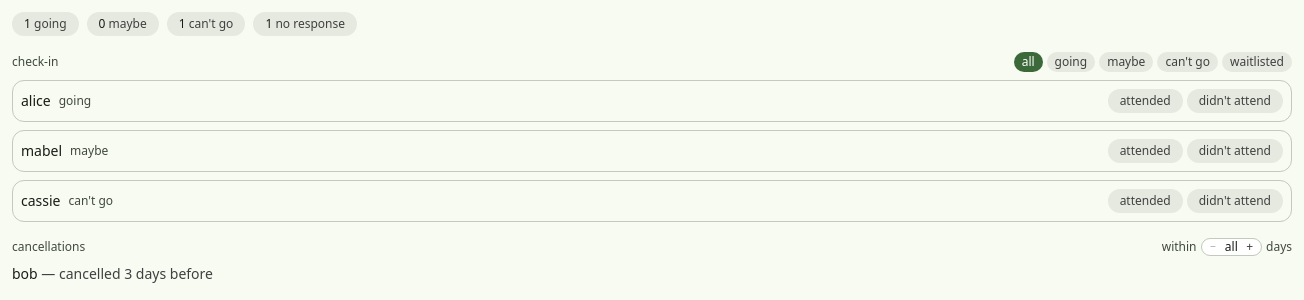
Scenario: EventAttendancePanel › restores the full list when the "all" chip is picked again
Click the button "maybe".
click(1126, 62)  # box left=1099, top=52, right=1153, bottom=72
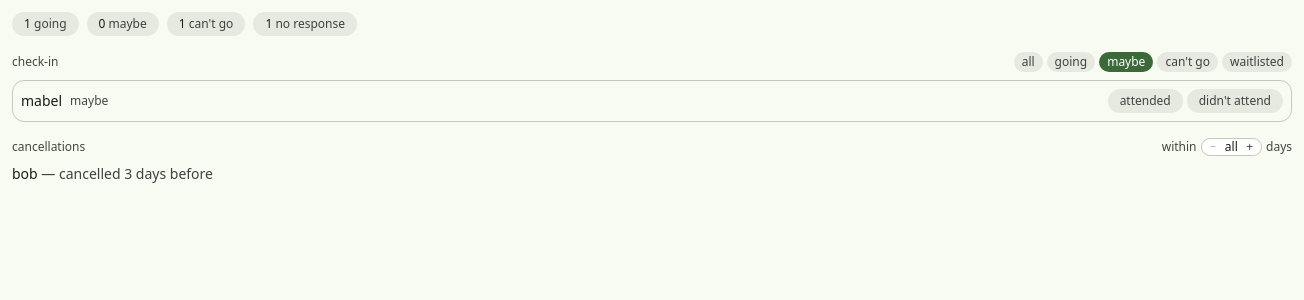
Click the button "all".
click(1028, 62)  # box left=1014, top=52, right=1043, bottom=72
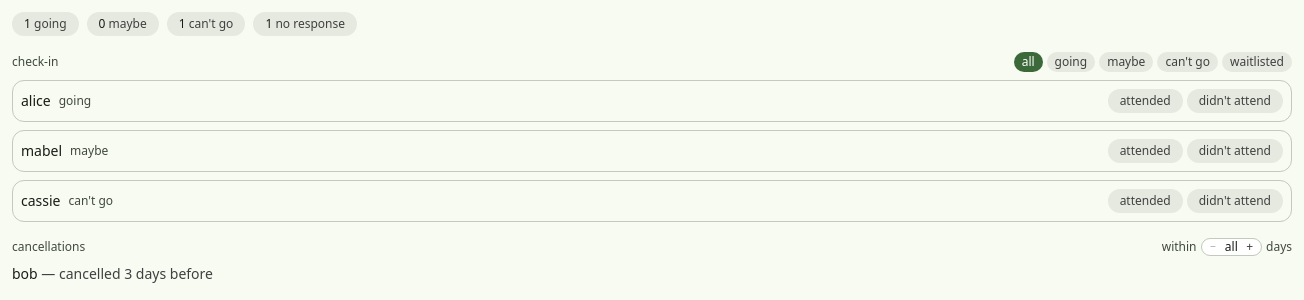
Check: the text "mabel" is shown, box left=21, top=141, right=62, bottom=161
Check: the text "alice" is shown, box left=21, top=91, right=51, bottom=111
Check: the text "cassie" is shown, box left=21, top=191, right=60, bottom=211
